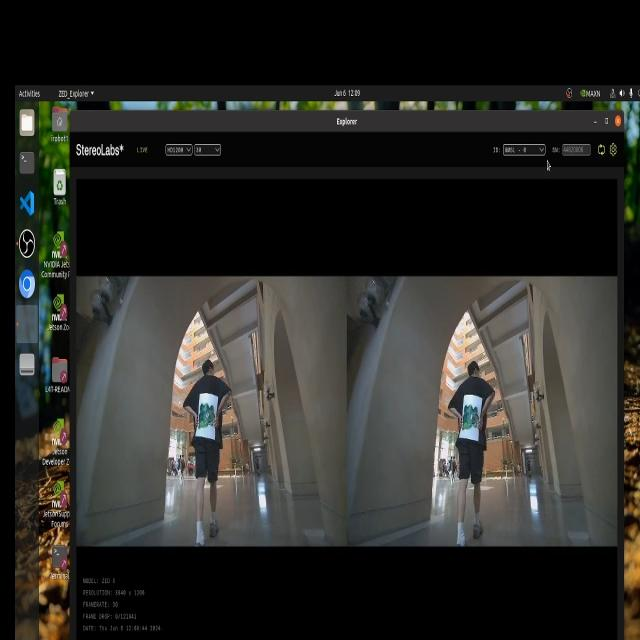green: (456, 399, 484, 437), (197, 395, 219, 438)
